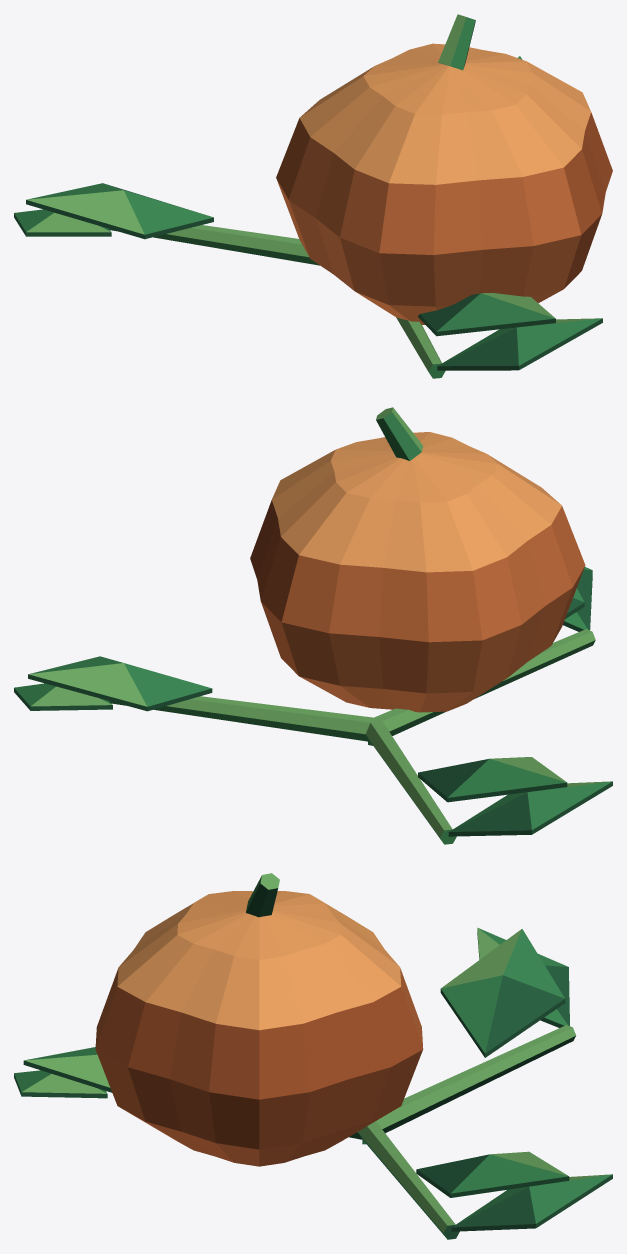
Rendered from pumpkin_stage_04.fbx.
The picture shows the model from 3 angles, top to bottom: view 1: azimuth 30°, elevation 25°; view 2: azimuth 150°, elevation 25°; view 3: azimuth 270°, elevation 25°; orthographic projection. The views are drawn at different scales.
Visible parts, largest first — view 1: pumpkin_stage_04, pumpkin_stage_04__Foliage; view 2: pumpkin_stage_04, pumpkin_stage_04__Foliage; view 3: pumpkin_stage_04, pumpkin_stage_04__Foliage.
Boxes of the visible parts, x1=… form: pumpkin_stage_04: x1=276, y1=14, x2=612, y2=324; pumpkin_stage_04__Foliage: x1=14, y1=56, x2=602, y2=378; pumpkin_stage_04: x1=250, y1=407, x2=585, y2=712; pumpkin_stage_04__Foliage: x1=14, y1=567, x2=612, y2=844; pumpkin_stage_04: x1=95, y1=873, x2=423, y2=1166; pumpkin_stage_04__Foliage: x1=14, y1=927, x2=612, y2=1239.
Size of the model in its own units: 2.39 by 1.16 by 2.21.
Materials: 1 (1 with a texture image).
